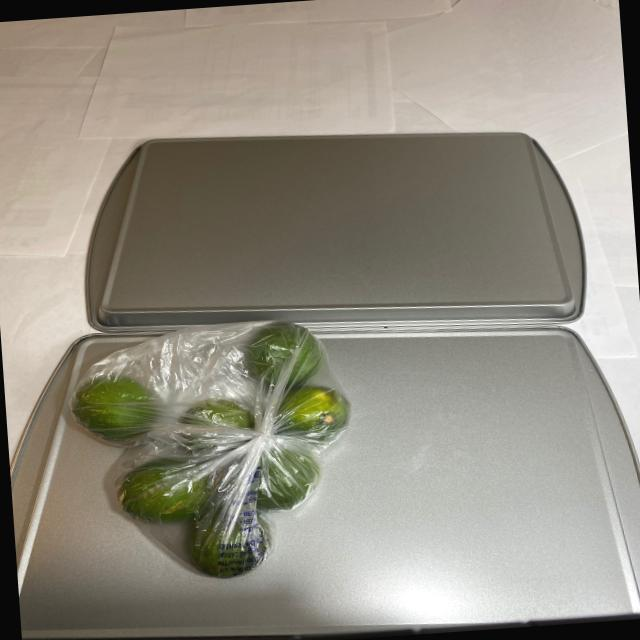lemon: (65, 315, 364, 580)
